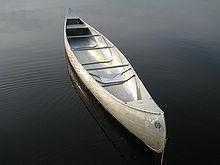kayak: (64, 12, 167, 155)
